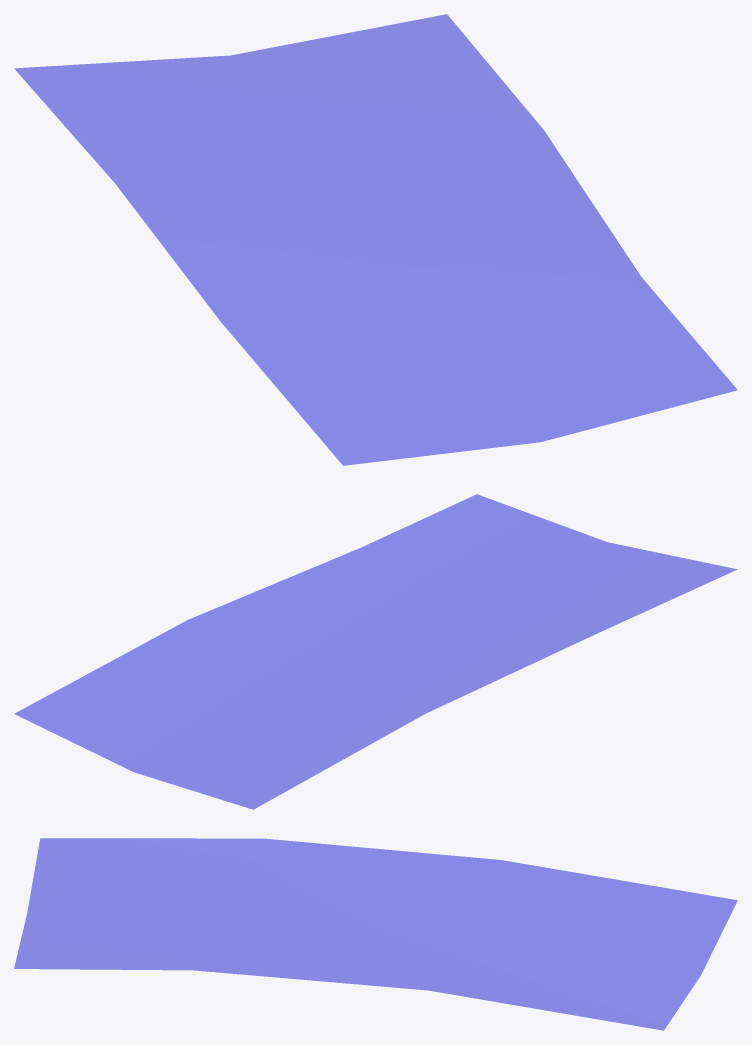
File: track_la_coll_road_44.fbx
The picture shows the model from 3 angles, top to bottom: view 1: azimuth 30°, elevation 25°; view 2: azimuth 150°, elevation 25°; view 3: azimuth 270°, elevation 25°; orthographic projection. The views are drawn at different scales.
Visible parts, largest first — view 1: track_la_coll_road_44; view 2: track_la_coll_road_44; view 3: track_la_coll_road_44.
Part boxes in pixels (x1,y1,x2,y2): track_la_coll_road_44: (14,14,737,465); track_la_coll_road_44: (14,494,736,809); track_la_coll_road_44: (14,838,737,1030).
Size of the model in its own units: 30.79 by 2.08 by 50.16.
